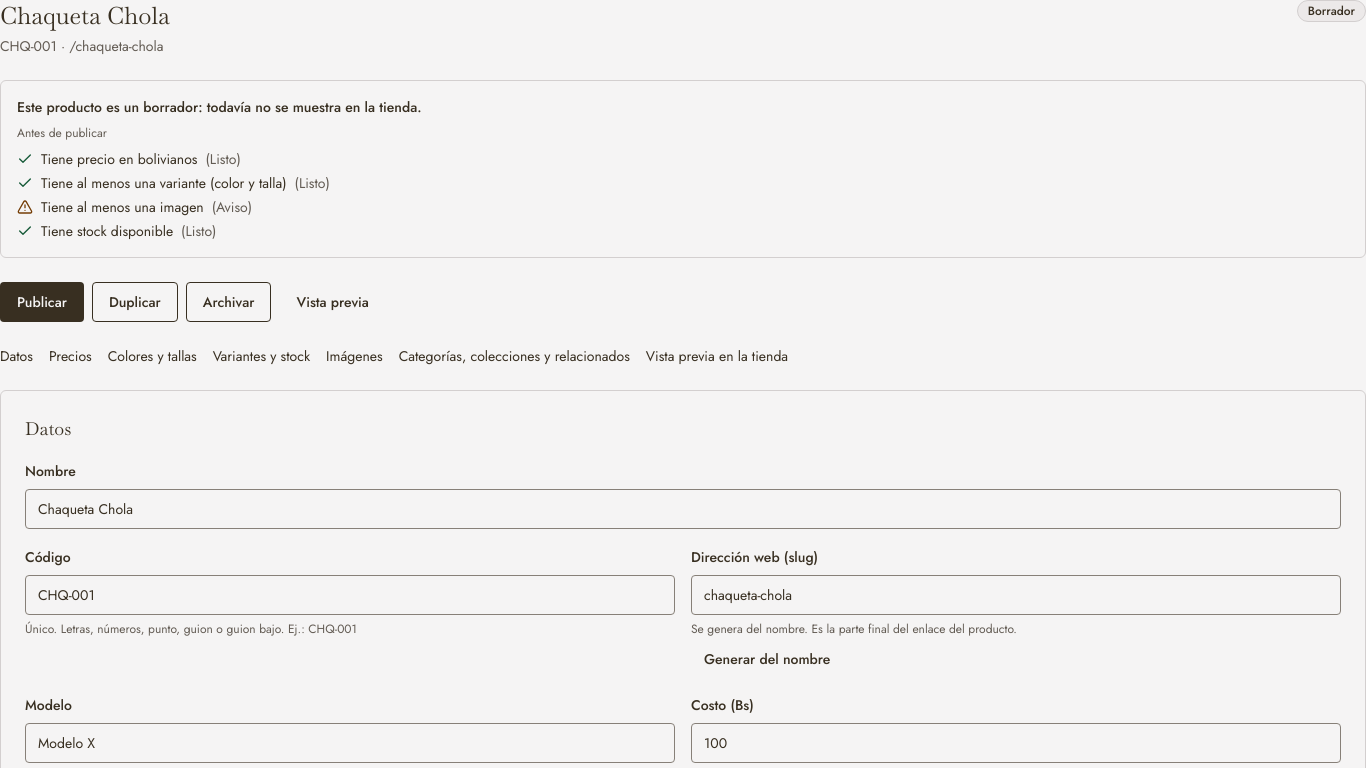
it: Acciones: publicar, borrador, archivar, restaurar, duplicar › sin imágenes solo AVISA: el diálogo lo marca como aviso y sí deja publicar
The image size is (1366, 768).
Expected: the heading "Chaqueta Chola" is shown, left=0, top=0, right=170, bottom=32
What coordinates should you click on to do the following:
click the button "Publicar"
I would click on:
 (42, 302)
Its box is left=0, top=282, right=84, bottom=322.
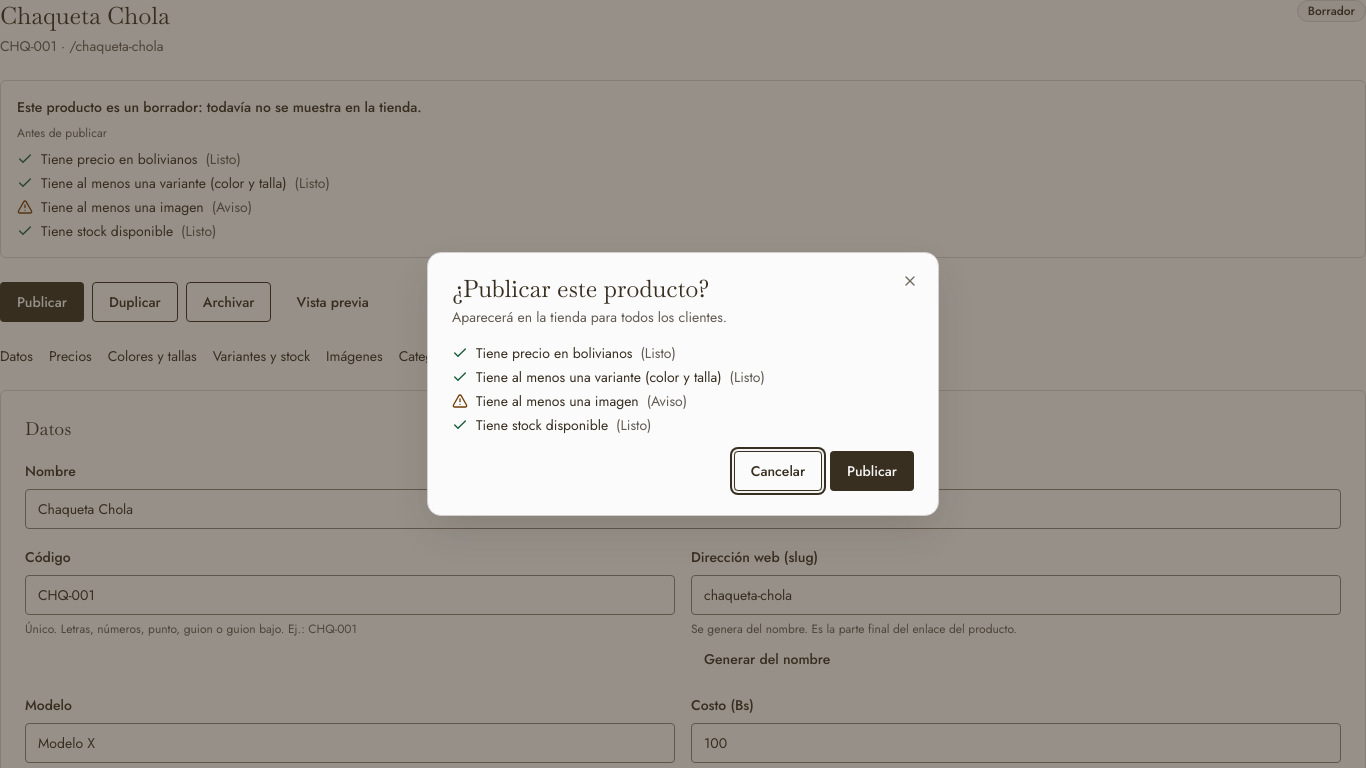
Expected: the button "Publicar" is enabled, left=830, top=451, right=914, bottom=491
